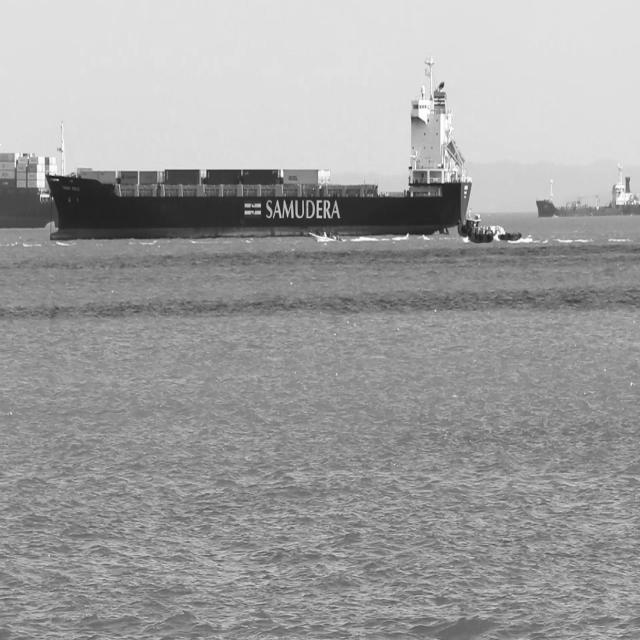ship: (45, 51, 473, 240), (536, 166, 640, 219), (0, 150, 59, 230), (456, 208, 524, 244), (308, 224, 342, 241)
